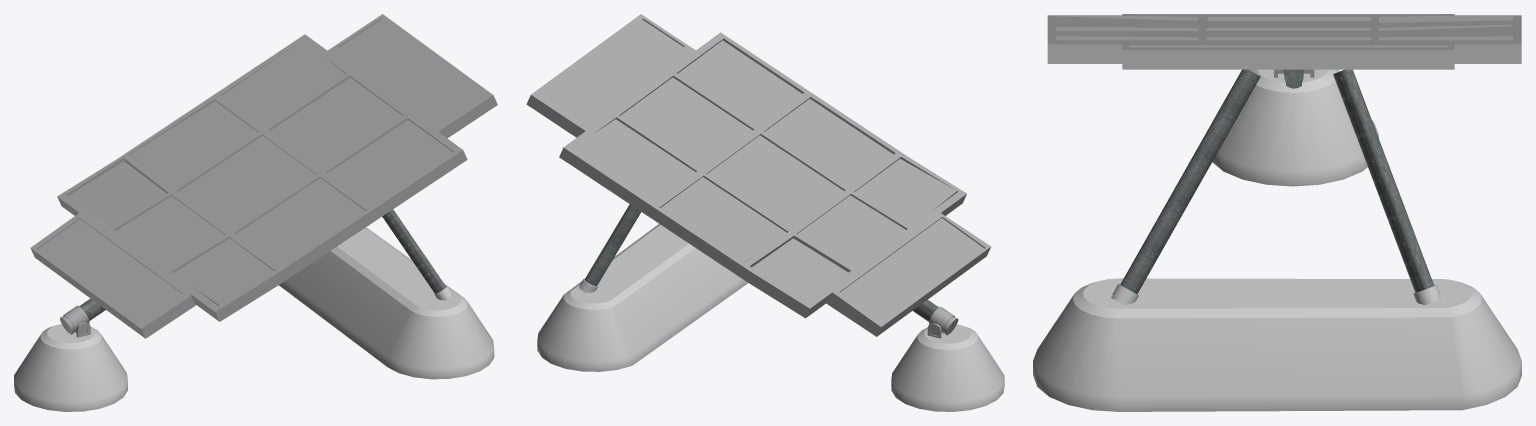
Rendered from SolarPanel2.fbx.
3 renders of one model, left to right at view 1: azimuth 30°, elevation 25°; view 2: azimuth 150°, elevation 25°; view 3: azimuth 270°, elevation 25°, orthographic. The views are drawn at different scales.
Parts seen in each view (by area): view 1: pCylinder2, polySurface1146, pCylinder1, polySurface1145, polySurface1152, polySurface1143, polySurface1149, polySurface1150, polySurface1151, polySurface1148, polySurface1147, polySurface1153 (+6 smaller); view 2: pCylinder2, polySurface1146, pCylinder1, polySurface1145, polySurface1152, polySurface1143, polySurface1149, polySurface1150, polySurface1148, polySurface1151, polySurface1147, polySurface1153 (+6 smaller); view 3: pCylinder2, pCylinder1, polySurface1146, polySurface1142, polySurface1138, polySurface1136, polySurface1154, polySurface1153, polySurface1151, polySurface1152, polySurface1143, polySurface1150 (+4 smaller).
Part boxes in pixels (x1,y1,x2,y2): pCylinder2: [279, 227, 494, 379]; polySurface1146: [57, 34, 467, 321]; pCylinder1: [14, 324, 127, 411]; polySurface1145: [37, 219, 181, 324]; polySurface1152: [178, 135, 315, 230]; polySurface1143: [339, 19, 486, 124]; polySurface1149: [270, 77, 402, 169]; polySurface1150: [236, 178, 365, 267]; polySurface1151: [130, 101, 258, 188]; polySurface1148: [327, 120, 452, 205]; polySurface1147: [222, 40, 345, 127]; polySurface1153: [116, 196, 224, 269]; pCylinder2: [537, 224, 747, 371]; polySurface1146: [559, 32, 966, 318]; pCylinder1: [891, 324, 1004, 411]; polySurface1145: [840, 218, 984, 322]; polySurface1152: [707, 135, 843, 229]; polySurface1143: [538, 19, 683, 123]; polySurface1149: [620, 77, 752, 169]; polySurface1150: [764, 99, 893, 187]; polySurface1148: [678, 40, 801, 127]; polySurface1151: [660, 177, 786, 261]; polySurface1147: [572, 119, 695, 202]; polySurface1153: [797, 195, 905, 268]; pCylinder2: [1033, 278, 1521, 411]; pCylinder1: [1212, 69, 1378, 186]; polySurface1146: [1047, 15, 1521, 63]; polySurface1142: [1122, 44, 1454, 69]; polySurface1138: [1120, 69, 1260, 293]; polySurface1136: [1333, 69, 1434, 292]; polySurface1154: [1056, 16, 1198, 27]; polySurface1153: [1207, 21, 1371, 27]; polySurface1151: [1378, 26, 1512, 36]; polySurface1152: [1206, 31, 1371, 36]; polySurface1143: [1129, 47, 1447, 49]; polySurface1150: [1056, 31, 1198, 36].
Bounding box in the file's own units: 39.05 × 21.81 × 26.28.
